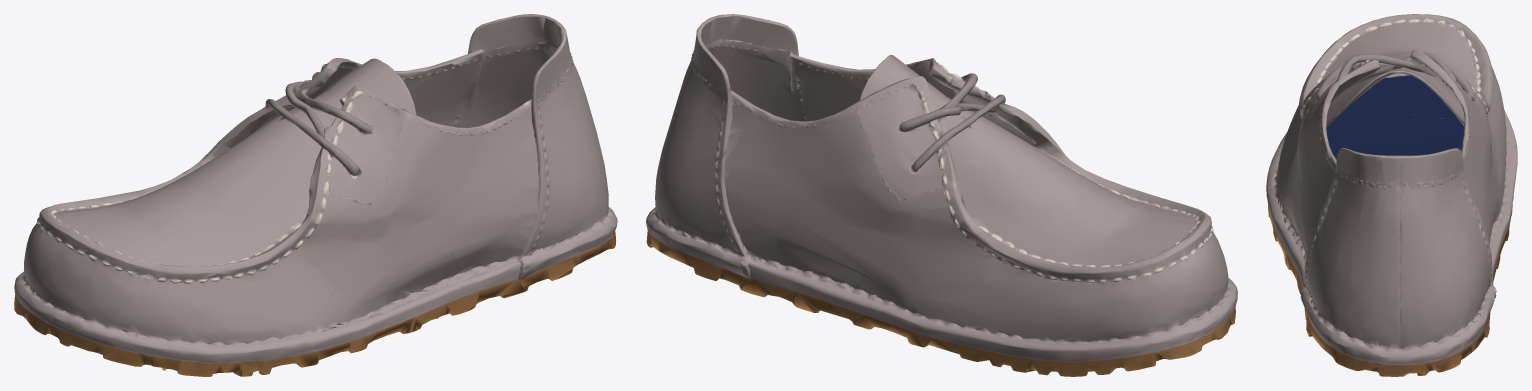
3 renders of one model, left to right at view 1: azimuth 30°, elevation 25°; view 2: azimuth 150°, elevation 25°; view 3: azimuth 270°, elevation 25°, orthographic. The views are drawn at different scales.
Parts seen in each view (by area): view 1: output_unwrapped; view 2: output_unwrapped; view 3: output_unwrapped.
Part boxes in pixels (x1=…): output_unwrapped: x1=14, y1=14, x2=617, y2=376; output_unwrapped: x1=646, y1=14, x2=1237, y2=376; output_unwrapped: x1=1266, y1=14, x2=1517, y2=376.
Size of the model in its own units: 0.3985 by 0.15 by 0.1631.
1 material, 1 textured.
